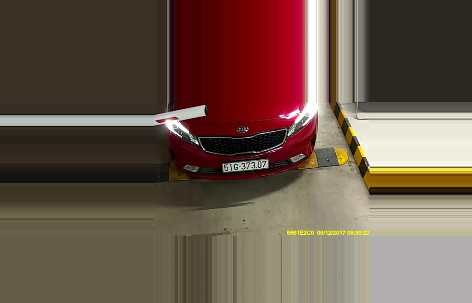plate: (222, 157, 270, 174)
